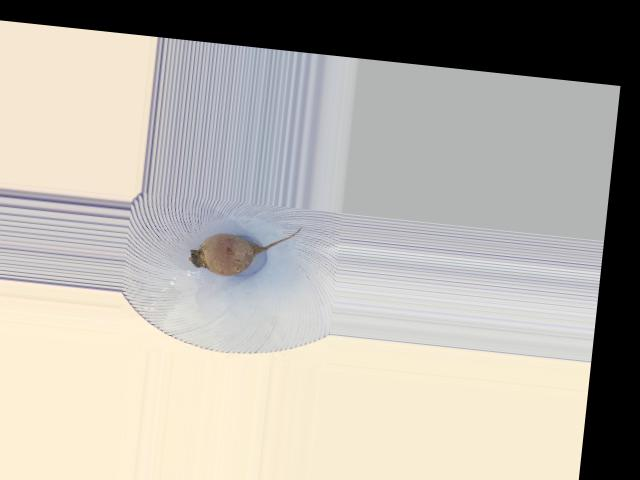beet: (187, 215, 301, 282)
